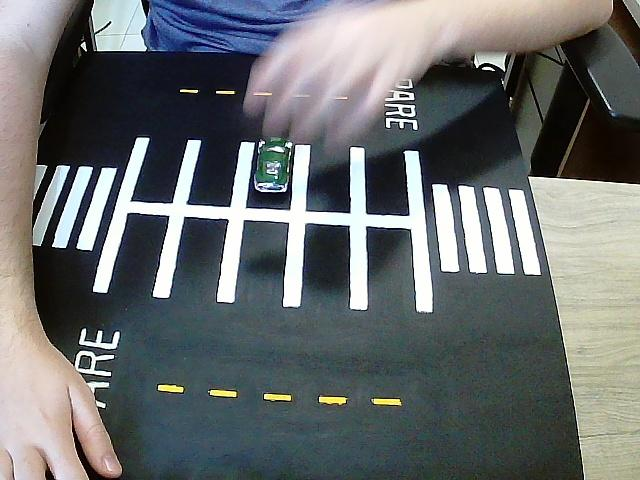Carro: (251, 138, 293, 194)
